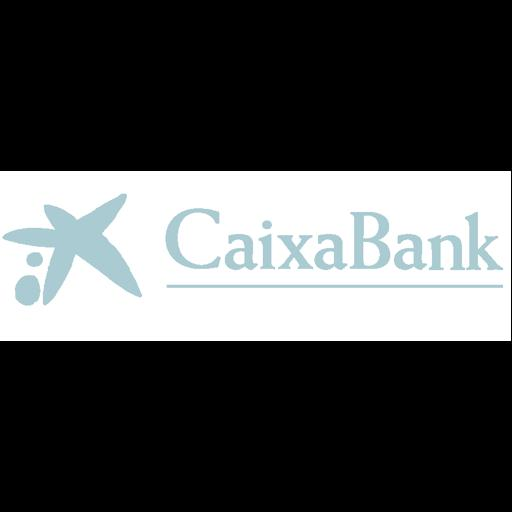CaixaBank: (0, 171, 511, 341)
